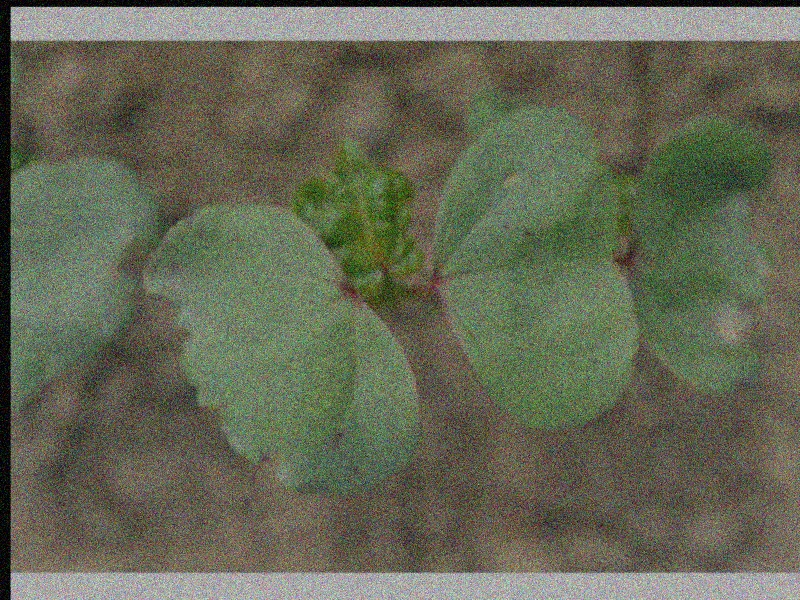cotton: (10, 103, 772, 490)
